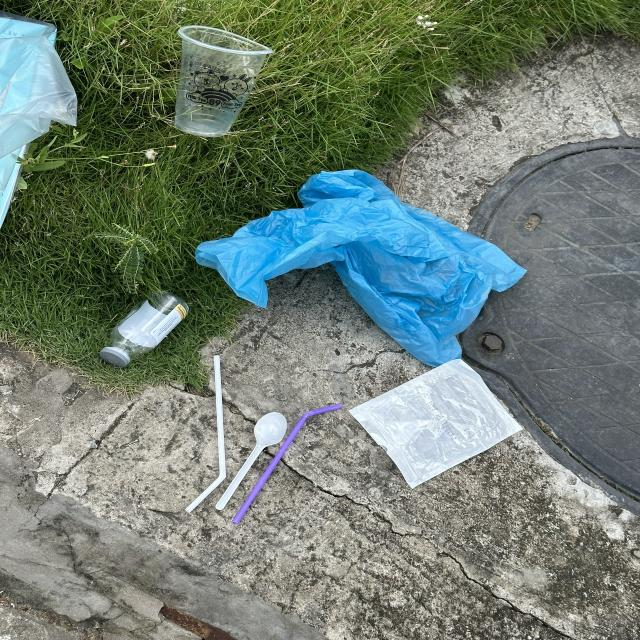bag: (194, 168, 529, 368)
bottle: (100, 290, 190, 368)
drinking straw: (232, 403, 344, 525), (185, 354, 227, 512)
packet: (348, 358, 523, 489)
plastic glass: (174, 24, 274, 138)
plastic utensil: (215, 412, 289, 511)
